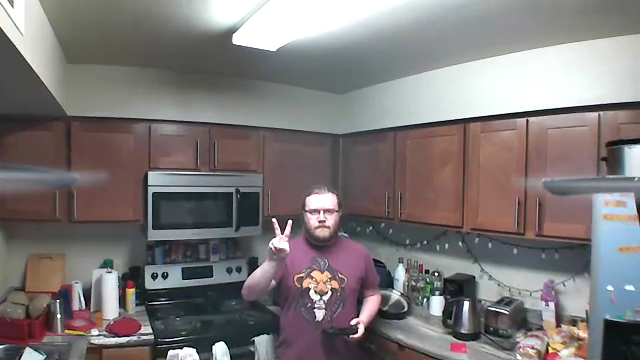peace: (268, 214, 295, 261)
